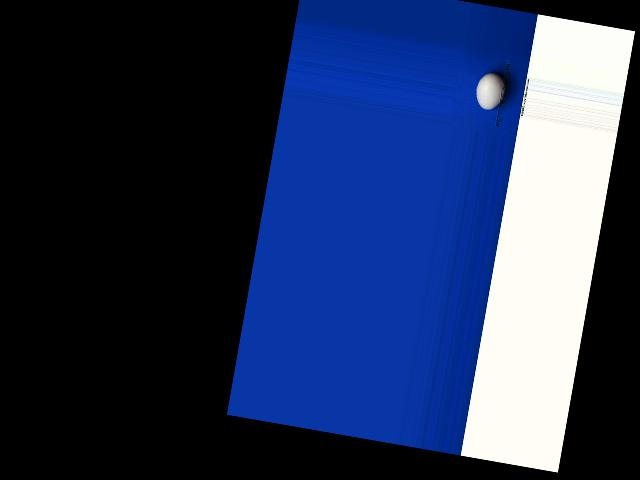egg: (473, 70, 508, 112)
